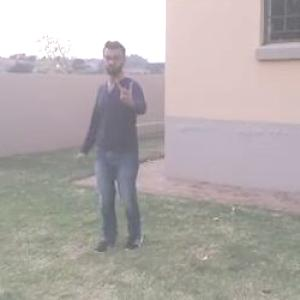takeoff-hand: (110, 72, 140, 107)
